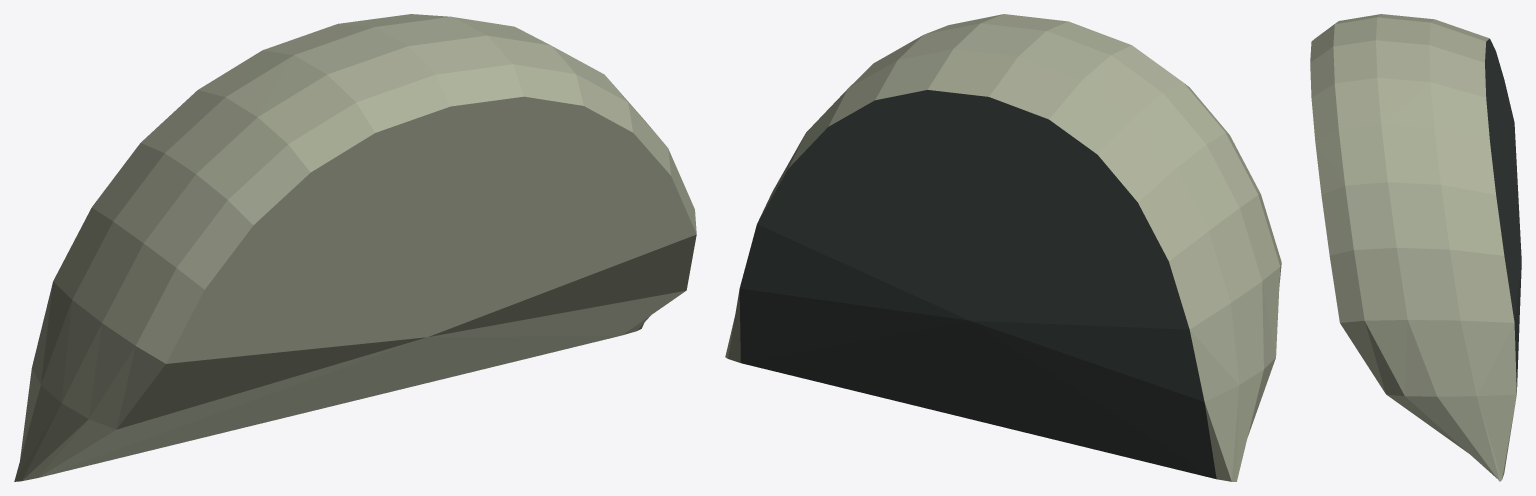
The model's file is centipede_segment_3.obj.
3 views of the same model, side by side, from view 1: azimuth 30°, elevation 25°; view 2: azimuth 150°, elevation 25°; view 3: azimuth 270°, elevation 25° (orthographic). The views are drawn at different scales.
Parts seen in each view (by area): view 1: centipede_segment_3; view 2: centipede_segment_3; view 3: centipede_segment_3.
Part boxes in pixels (left/top/right/bottom): centipede_segment_3: left=14, top=14, right=696, bottom=481; centipede_segment_3: left=725, top=14, right=1281, bottom=481; centipede_segment_3: left=1310, top=14, right=1521, bottom=481.
Bounding box in the file's own units: 1.54 × 0.98 × 0.5813.
